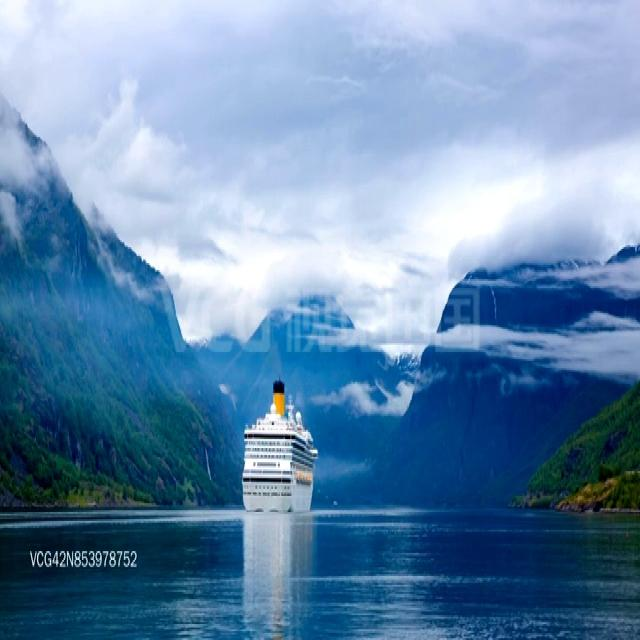passenger ship: (240, 378, 316, 510)
